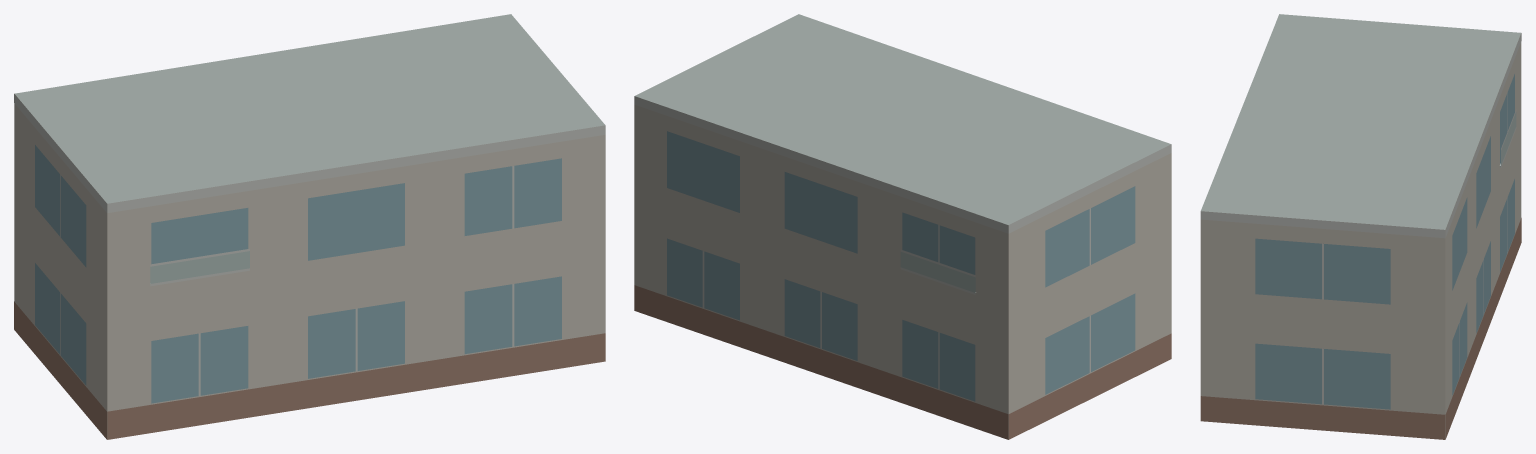
The model's file is survey-upis-32681356.glb.
3 views of the same model, side by side, from view 1: azimuth 30°, elevation 25°; view 2: azimuth 150°, elevation 25°; view 3: azimuth 270°, elevation 25° (orthographic). The views are drawn at different scales.
Parts seen in each view (by area): view 1: survey-upis-32681356.tmp; view 2: survey-upis-32681356.tmp; view 3: survey-upis-32681356.tmp.
Boxes of the visible parts, left/top/right/bottom form: survey-upis-32681356.tmp: left=14, top=14, right=605, bottom=439; survey-upis-32681356.tmp: left=634, top=14, right=1171, bottom=439; survey-upis-32681356.tmp: left=1200, top=14, right=1521, bottom=439.
Size of the model in its own units: 13.46 by 6.1 by 8.45.
